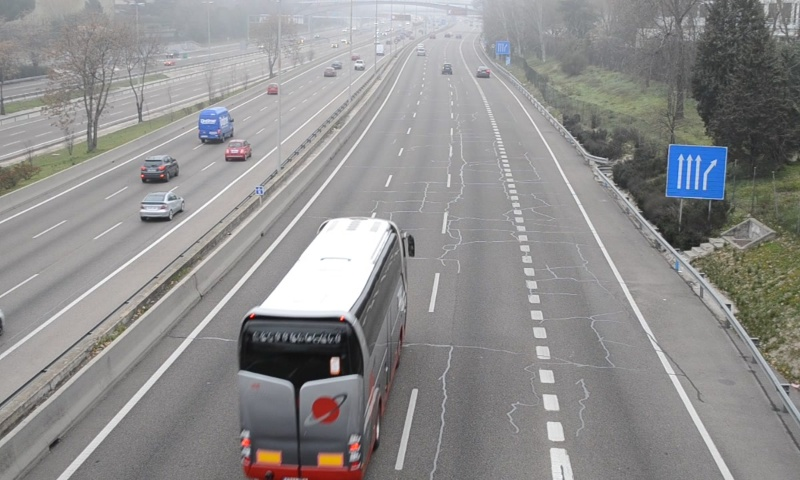bus: (237, 216, 406, 480)
car: (440, 62, 454, 76), (476, 66, 490, 79)
